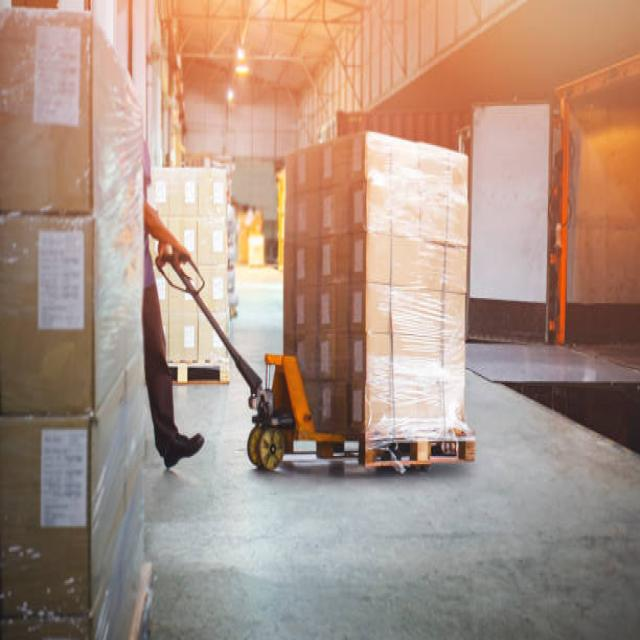Wooden-Pallets: (367, 438, 476, 472)
